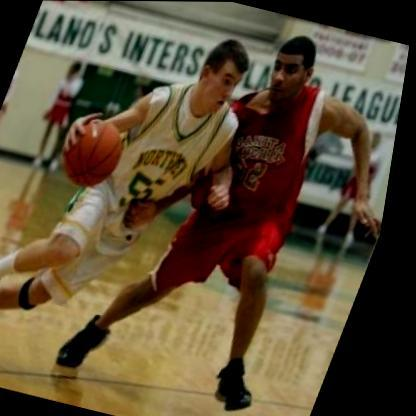basketball: (53, 107, 149, 198)
